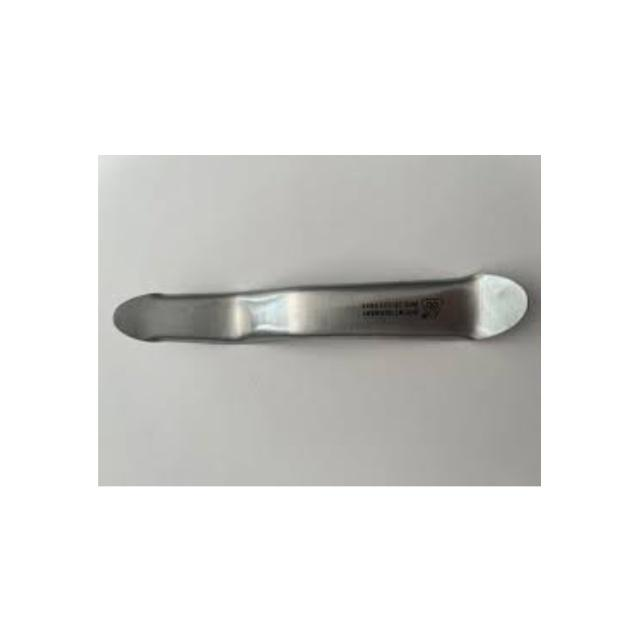separador: (112, 273, 529, 346)
